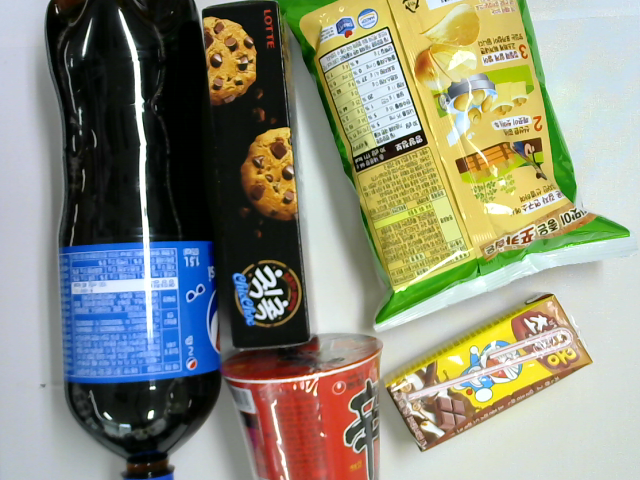Chicchok_Original_2400: (203, 1, 314, 352)
Choco_E_Mong: (382, 290, 594, 453)
Pepsi_Cola_1.5L: (41, 1, 221, 478)
Pocachip_Onion: (274, 1, 639, 337)
Sinramen_small: (217, 332, 384, 480)
